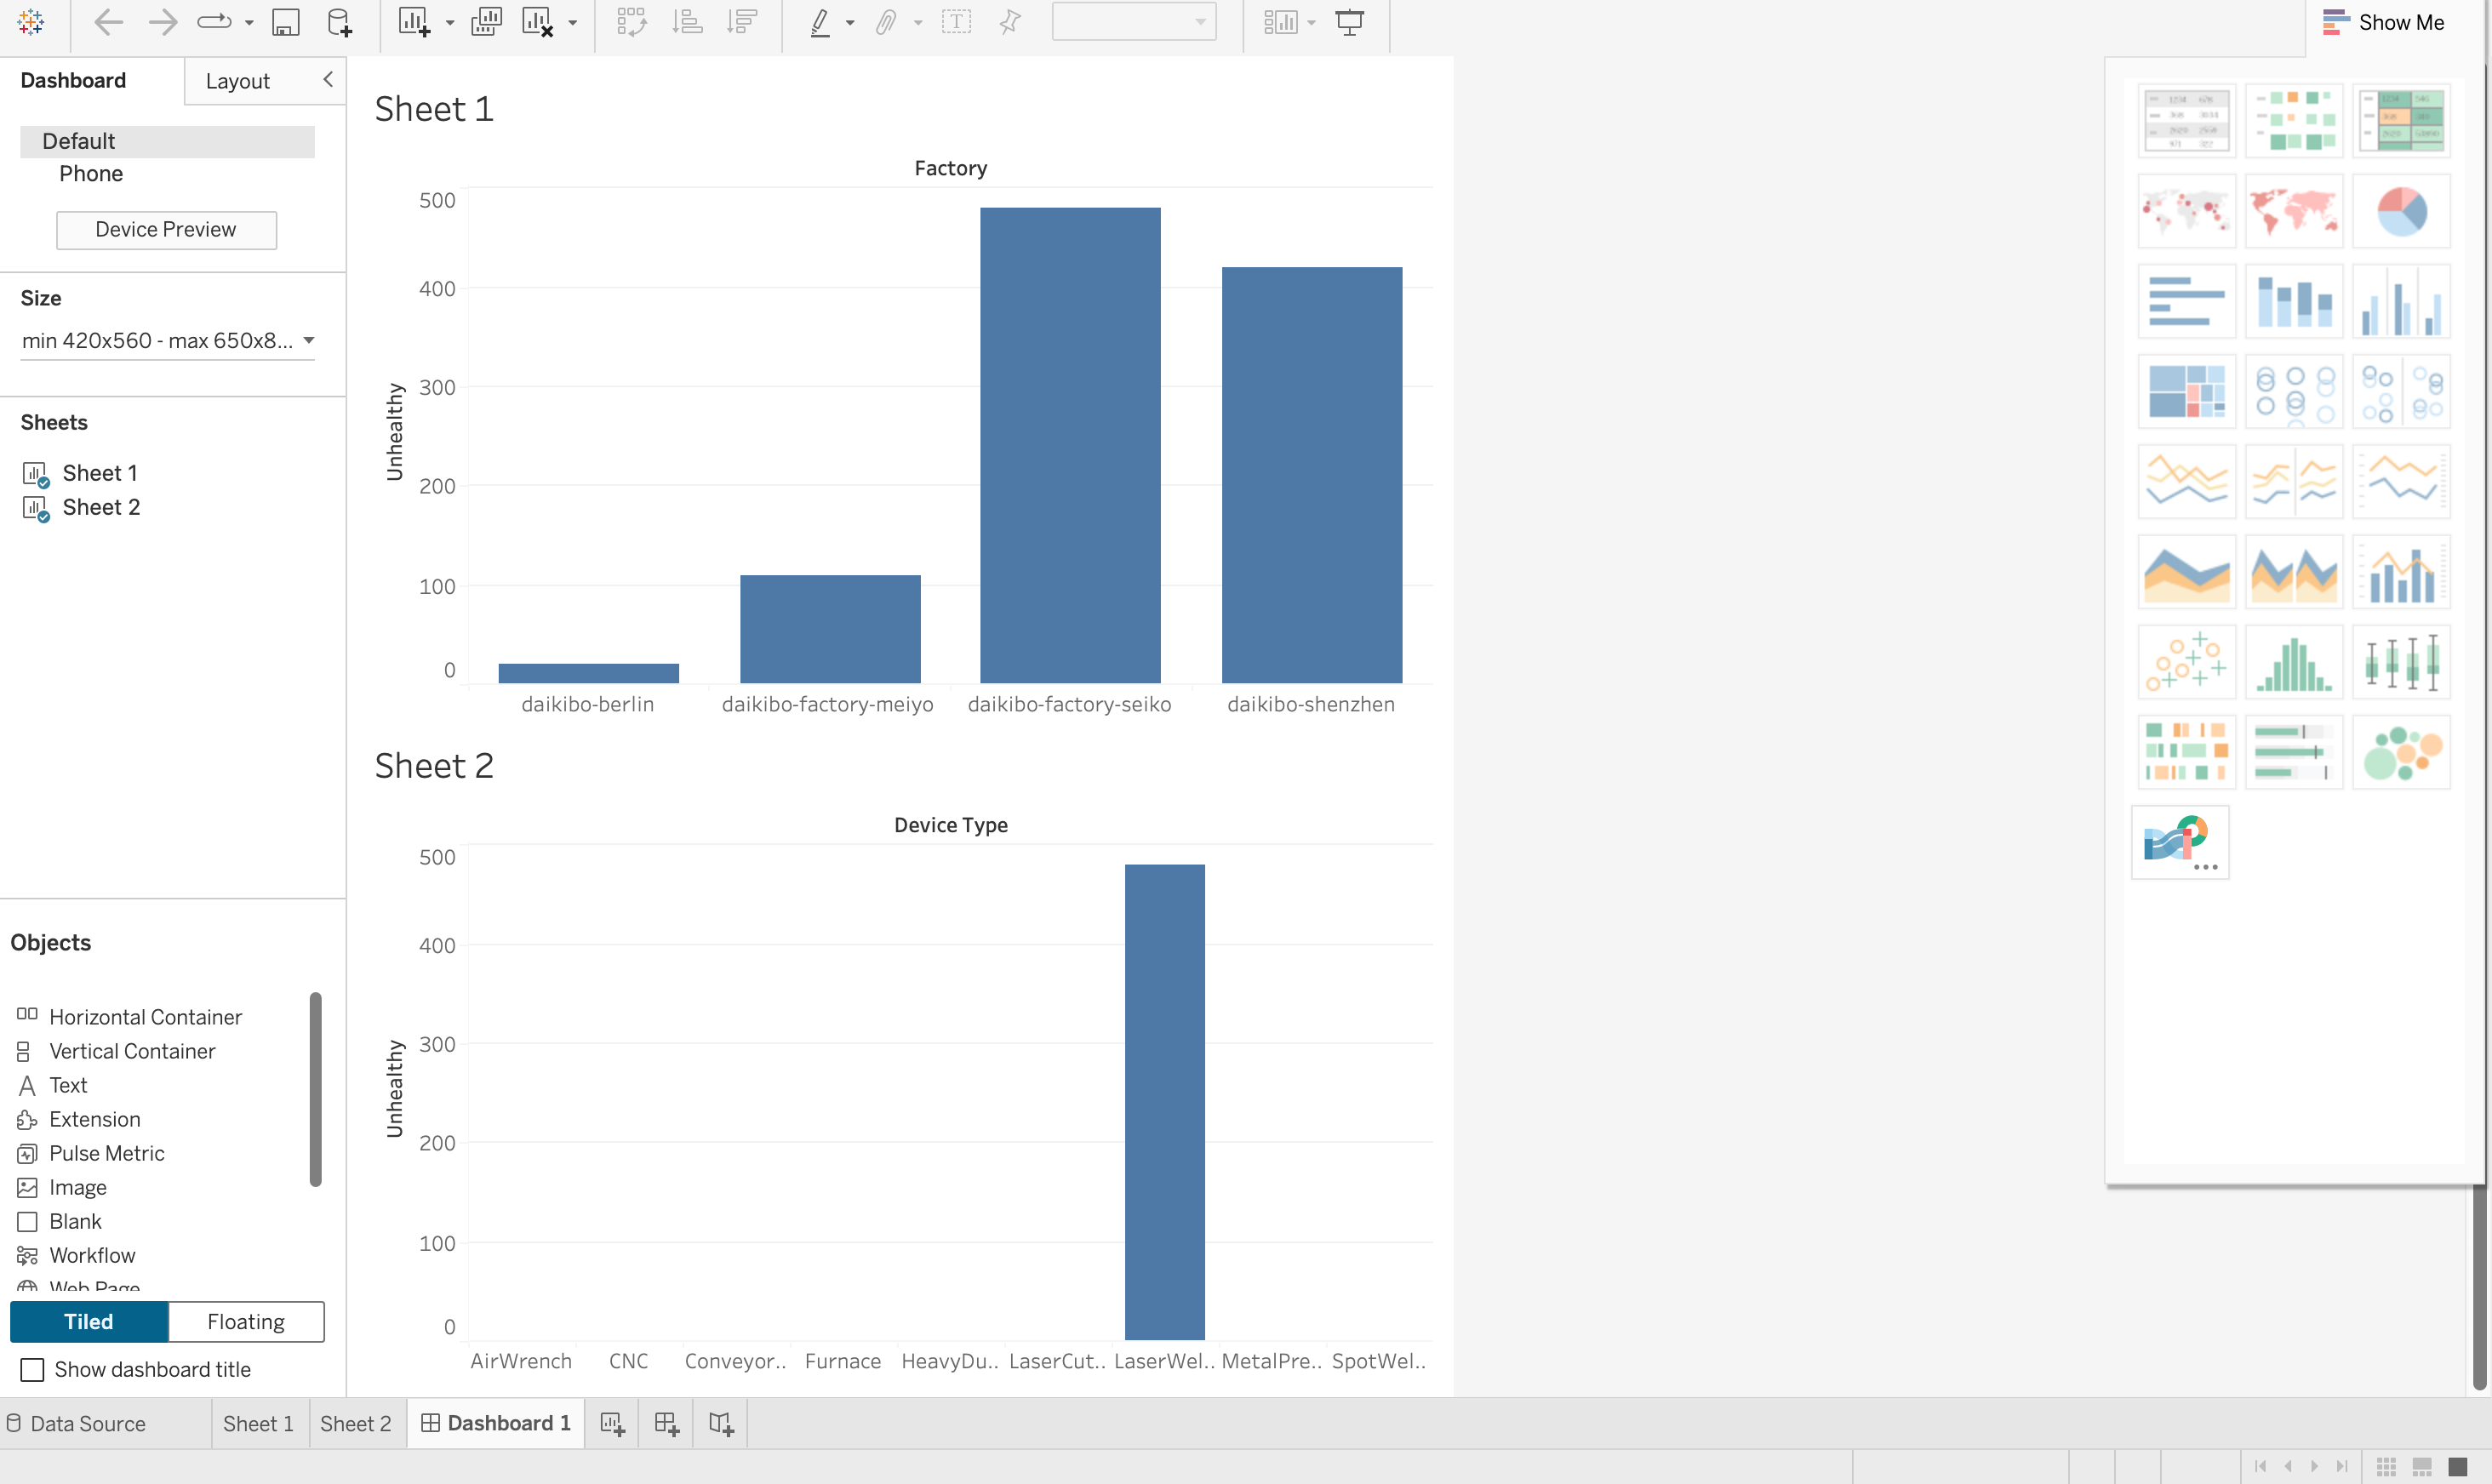

This screenshot's page, from the dashboard's own definition file:
{"tool":"tableau","page":{"name":"Dashboard 1","canvas":[650,860],"ordinal":0},"visuals":[{"type":"worksheet","title":"Sheet 1","mark":"Automatic","rows":["Calculation_2277343689825914880"],"cols":["factory"],"box":[8,9.8,634,420.2]},{"type":"worksheet","title":"Sheet 2","mark":"Automatic","rows":["Calculation_2277343689825914880"],"cols":["deviceType"],"box":[8,430,634,420.2]}]}

Visuals, with their boxes in screenshot pixels (x1, y1, x2, y2):
"Sheet 1" worksheet: box(1396, 0, 2477, 681)
"Sheet 2" worksheet: box(1396, 681, 2477, 1396)
